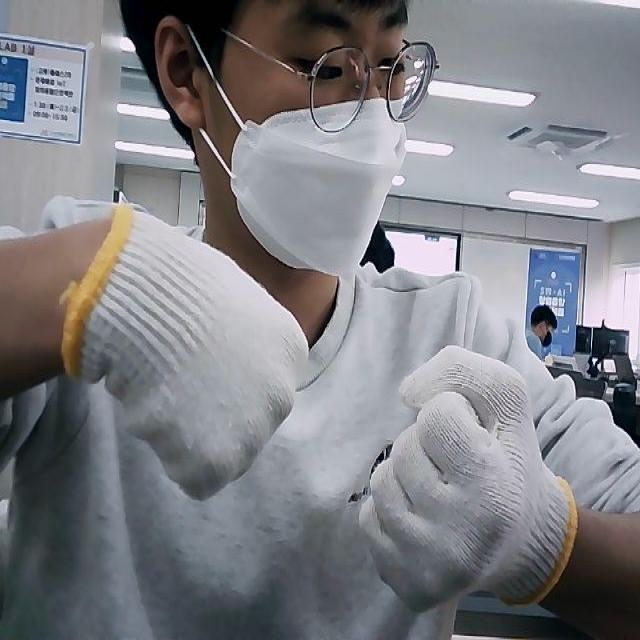Guantes: (62, 204, 306, 497), (356, 342, 579, 612)
